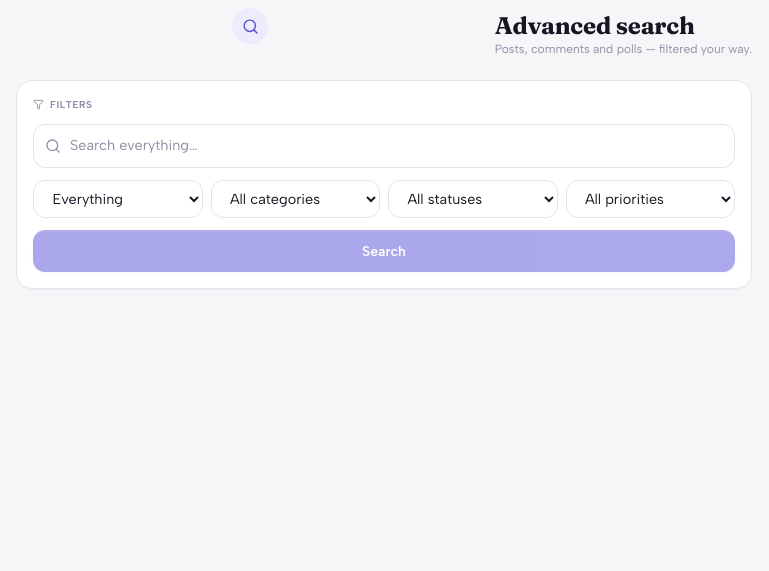
Test: Search — query flow › submits a query and renders post results linked to /post/:id
Type "projector" into the field labelled "Search everything…" at (384, 146), box [33, 124, 735, 168]
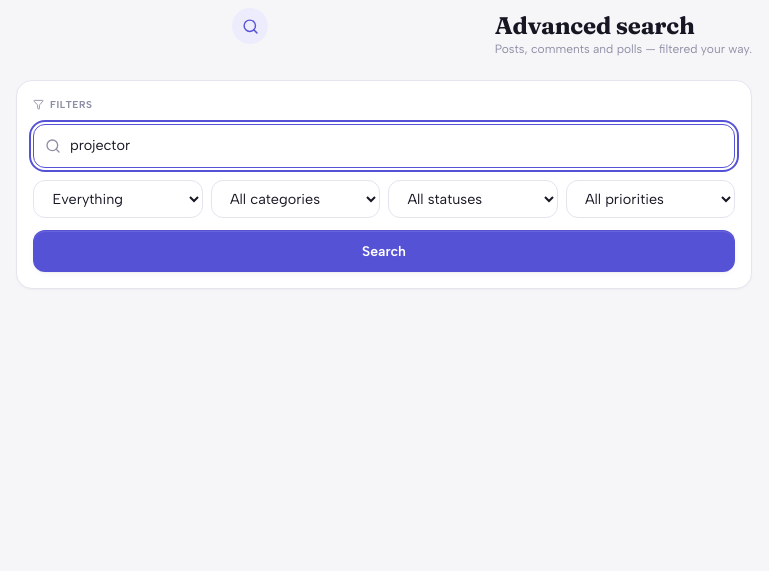
Press Enter
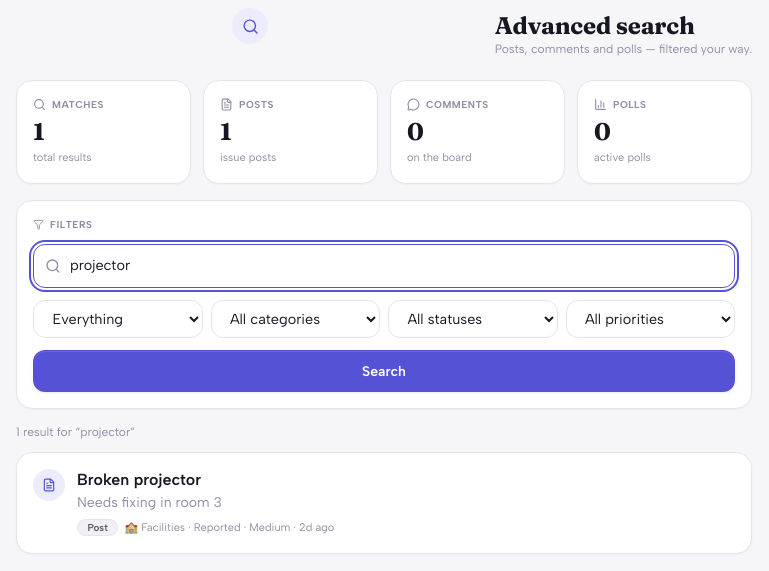
Result: the text "Broken projector" is shown at [77, 470, 201, 489]
Result: the text "1 result for “projector”" is shown at [16, 425, 135, 439]
